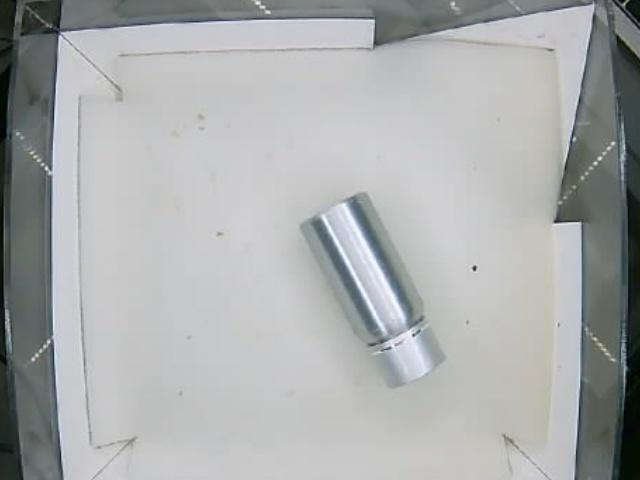Bottle: (300, 191, 449, 385)
